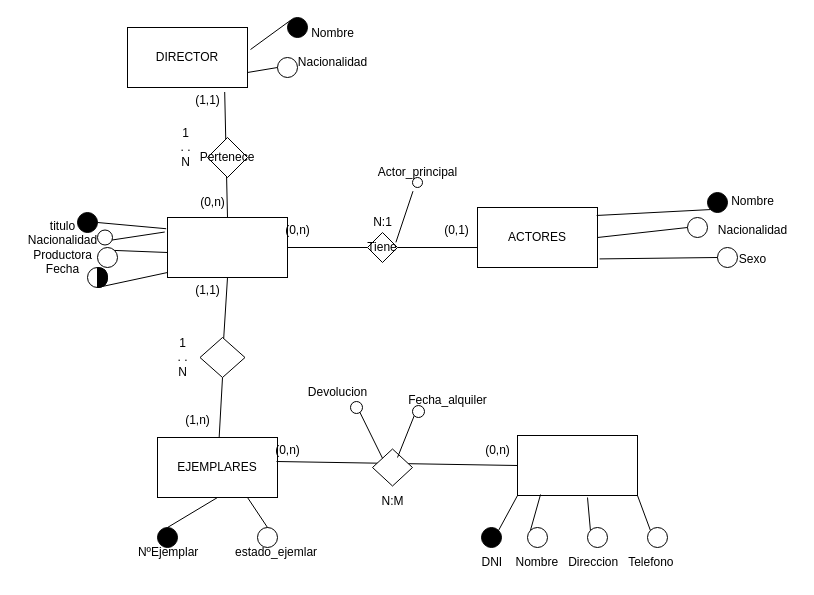
This 814x595 diagram has some shape labels left out. Here are the shapes that lost their labels. From the top down, the centre of each, then its label:
At (x=227, y=247): "PELICULAS".
At (x=392, y=467): "Alquila".
At (x=577, y=465): "SOCIO".
